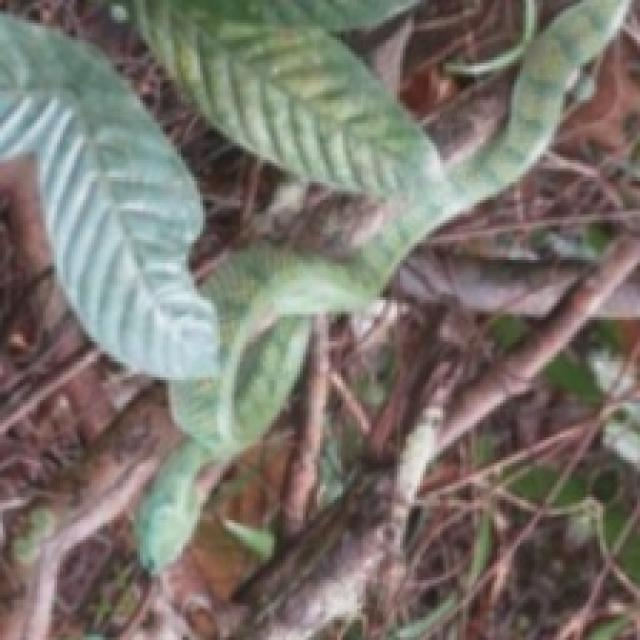north ph temple pitviper: (136, 0, 624, 571)
